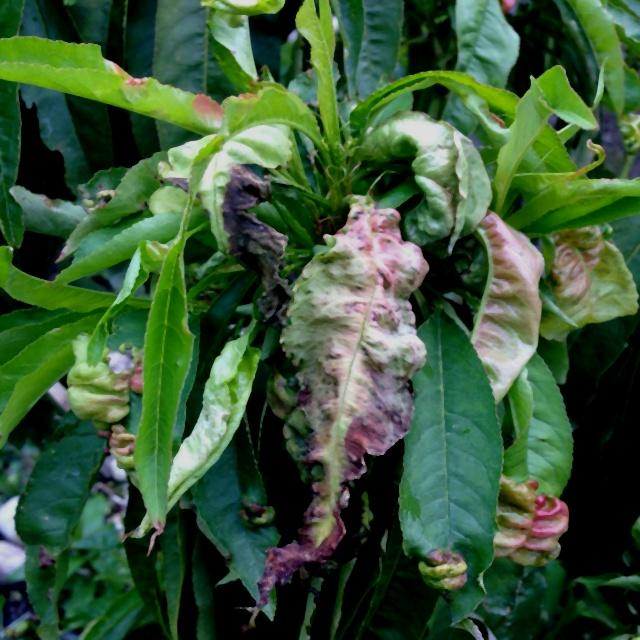leaf_curl: (267, 178, 443, 615), (377, 63, 576, 398), (192, 68, 324, 385), (478, 415, 640, 640)
